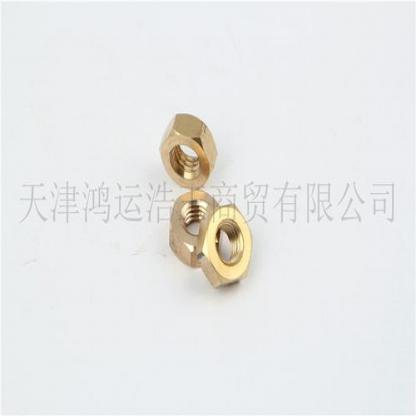FOD: (200, 201, 254, 294), (159, 111, 218, 191), (166, 191, 228, 267)
